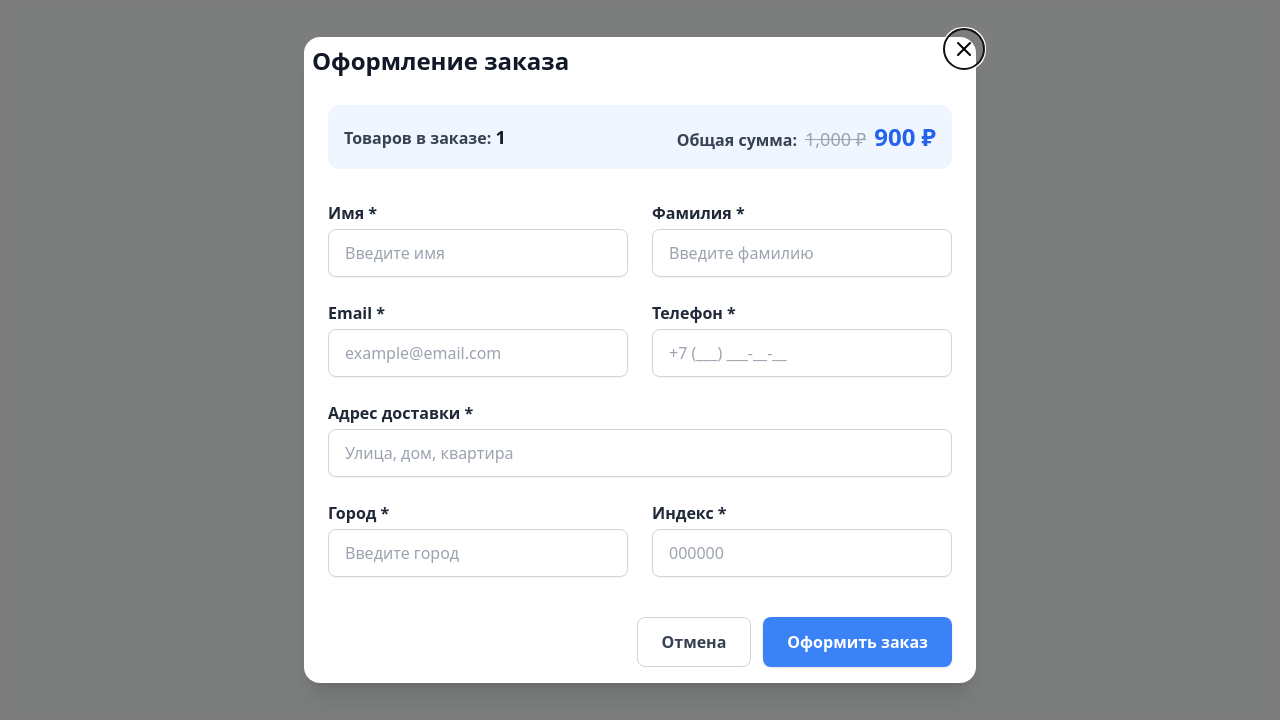
CheckoutModal › валидирует форму и показывает ошибки
The image size is (1280, 720).
Click the button "Оформить заказ". click: x=858, y=642
box: left=763, top=617, right=952, bottom=667
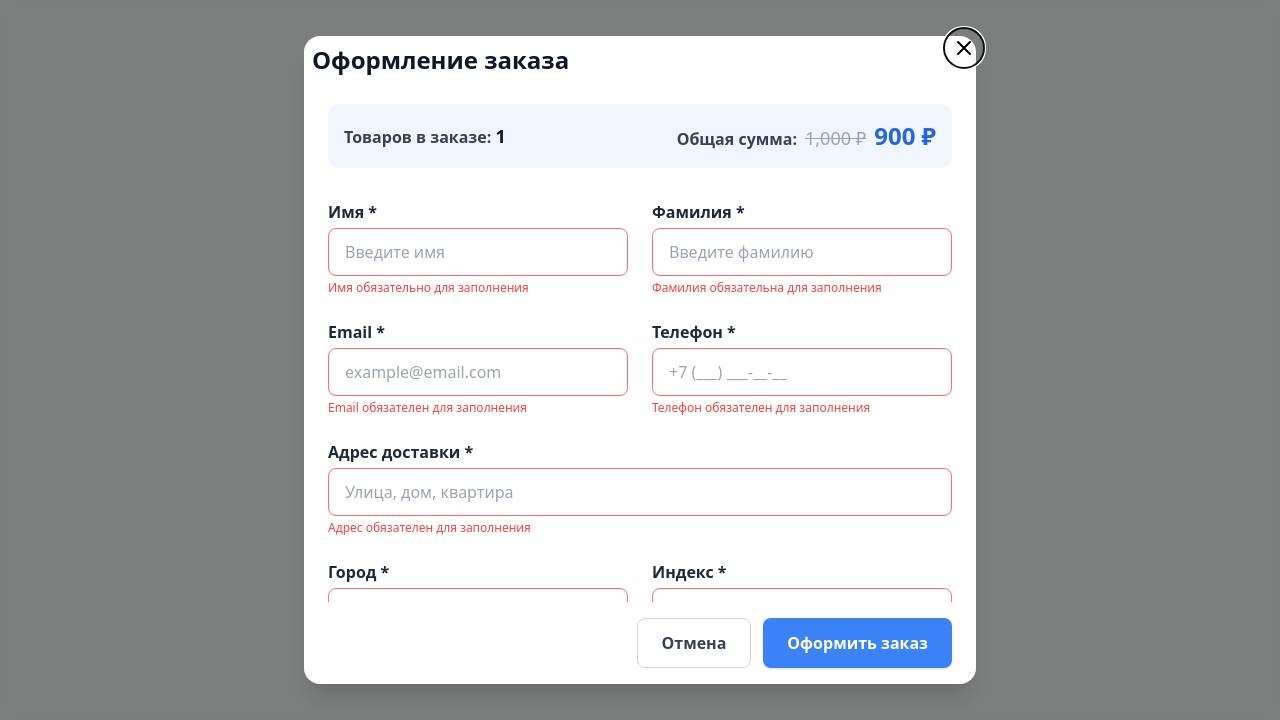
Expected: the text "Имя обязательно для заполнения" is shown, left=328, top=279, right=529, bottom=296
Expected: the text "Фамилия обязательна для заполнения" is shown, left=652, top=279, right=882, bottom=296
Expected: the text "Email обязателен для заполнения" is shown, left=328, top=399, right=527, bottom=416
